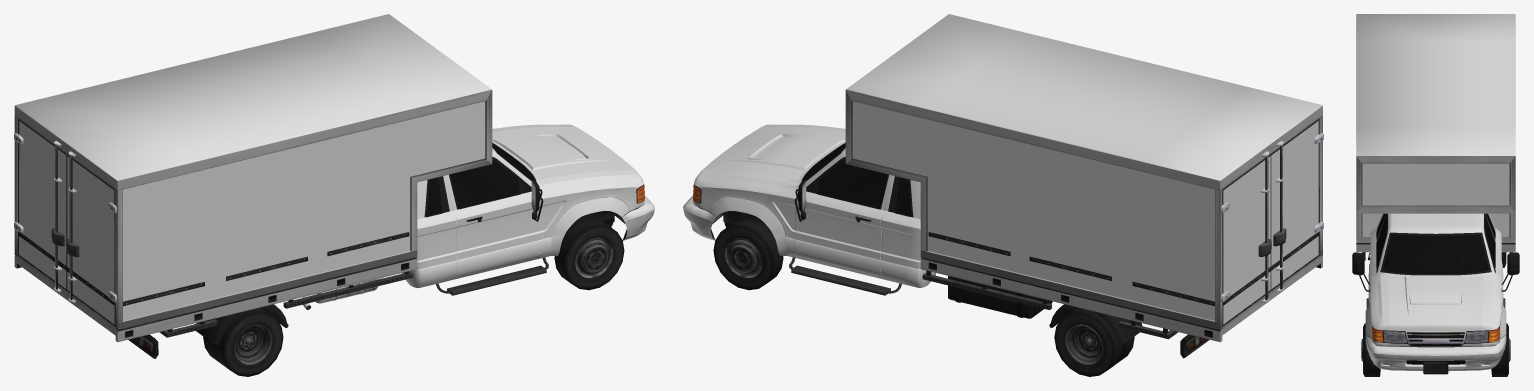
The model's file is LBT13.fbx.
The picture shows the model from 3 angles, left to right: view 1: azimuth 30°, elevation 25°; view 2: azimuth 150°, elevation 25°; view 3: azimuth 270°, elevation 25°; orthographic projection. The views are drawn at different scales.
Visible parts, largest first — view 1: hood, Object001, wheels, bottom, glass, interior; view 2: hood, Object001, wheels, bottom, glass, interior; view 3: hood, Object001 (×2), glass, interior, grill, Object008, wheels.
Part boxes in pixels (left/top/right/bottom): hood: left=15, top=14, right=654, bottom=324; Object001: left=14, top=89, right=641, bottom=342; wheels: left=203, top=218, right=624, bottom=376; bottom: left=14, top=133, right=413, bottom=344; glass: left=427, top=143, right=534, bottom=216; interior: left=428, top=143, right=533, bottom=215; hood: left=683, top=14, right=1322, bottom=324; Object001: left=695, top=89, right=1322, bottom=342; wheels: left=713, top=218, right=1134, bottom=376; bottom: left=922, top=133, right=1323, bottom=344; glass: left=803, top=143, right=910, bottom=216; interior: left=804, top=143, right=909, bottom=215; hood: left=1356, top=14, right=1515, bottom=371; Object001 (×2): left=1352, top=156, right=1519, bottom=374; glass: left=1376, top=213, right=1495, bottom=273; interior: left=1377, top=214, right=1494, bottom=273; grill: left=1393, top=331, right=1478, bottom=364; Object008: left=1372, top=327, right=1499, bottom=364; wheels: left=1361, top=323, right=1510, bottom=376.
Size of the model in its own units: 252 by 99.15 by 84.29.
